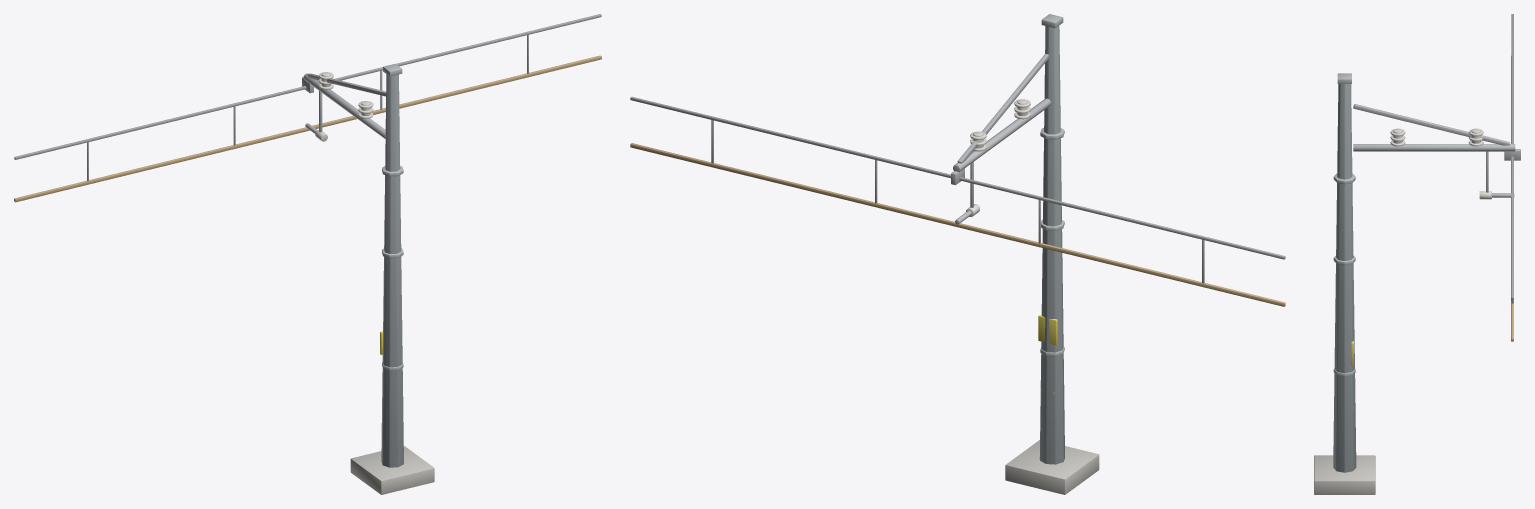
File: th17_oberleitungsmast.glb
3 views of the same model, side by side, from view 1: azimuth 30°, elevation 25°; view 2: azimuth 150°, elevation 25°; view 3: azimuth 270°, elevation 25° (orthographic). The views are drawn at different scales.
Parts seen in each view (by area): view 1: Cone, Cube.005, Cube, Cube.004, Cylinder.003; view 2: Cone, Cube.005, Cube, Cube.004, Cylinder.003, Cube.002; view 3: Cone, Cube, Cylinder.003, Cube.002, Cube.004, Cube.005.
Part boxes in pixels (left/top/right/bottom): Cone: left=381, top=74, right=403, bottom=467; Cube.005: left=14, top=55, right=601, bottom=202; Cube: left=350, top=446, right=434, bottom=494; Cube.004: left=14, top=14, right=601, bottom=159; Cylinder.003: left=303, top=73, right=385, bottom=138; Cone: left=1039, top=26, right=1064, bottom=464; Cube.005: left=630, top=143, right=1285, bottom=306; Cube: left=1005, top=440, right=1099, bottom=494; Cube.004: left=630, top=97, right=1285, bottom=259; Cylinder.003: left=953, top=98, right=1050, bottom=171; Cube.002: left=957, top=53, right=1049, bottom=163; Cone: left=1333, top=84, right=1356, bottom=472; Cube: left=1314, top=455, right=1375, bottom=494; Cylinder.003: left=1353, top=144, right=1515, bottom=151; Cube.002: left=1353, top=104, right=1509, bottom=145; Cube.004: left=1511, top=14, right=1513, bottom=299; Cube.005: left=1511, top=56, right=1513, bottom=341.
Bounding box in the file's own units: 12 × 8.01 × 3.7.
